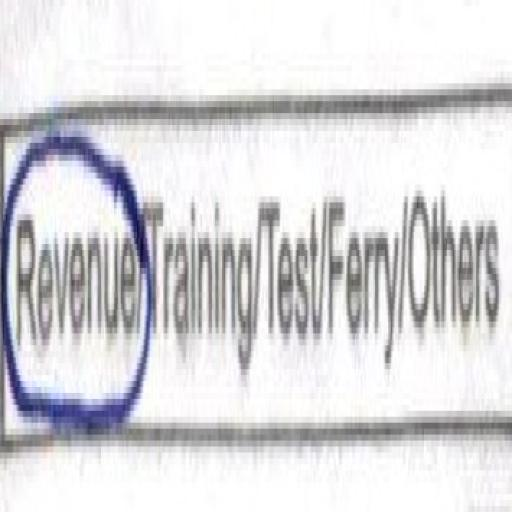check: (0, 78, 143, 464)
